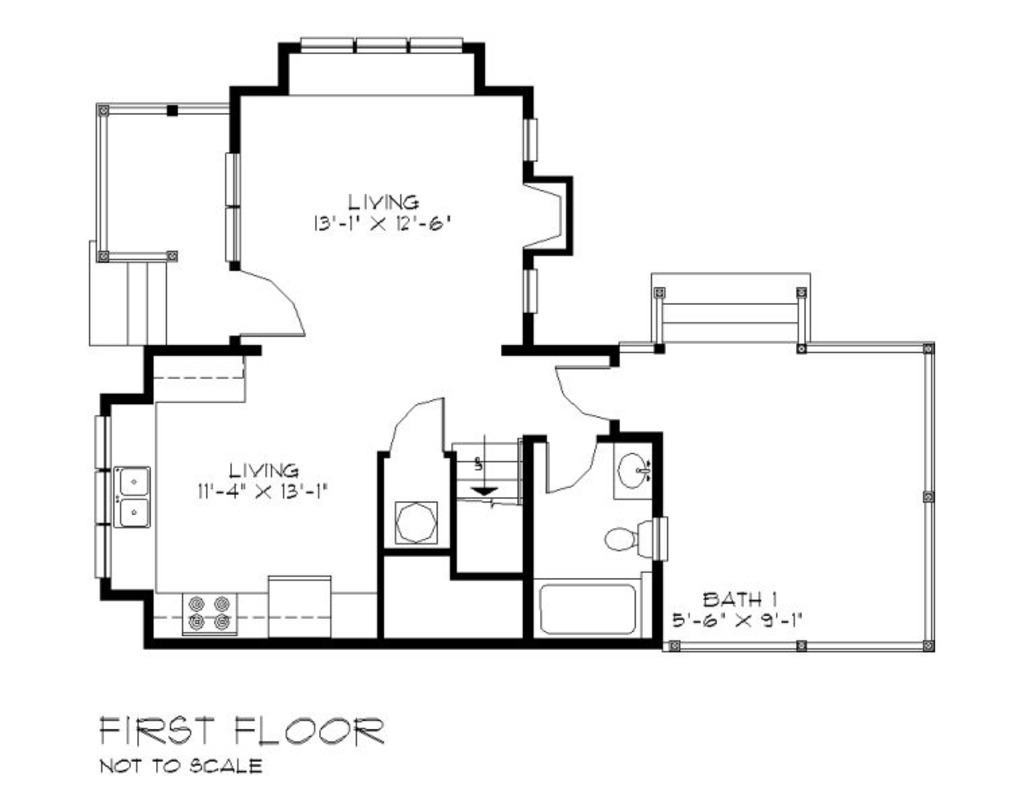door: (230, 261, 313, 345), (381, 394, 452, 462), (552, 359, 623, 426), (536, 433, 604, 498)
large_sink: (599, 514, 675, 569)
small_sink: (602, 437, 654, 501)
stairs: (645, 265, 824, 356), (91, 239, 186, 358), (452, 433, 524, 569)
tub: (534, 578, 651, 642)
twin_sink: (107, 462, 156, 533)
window: (288, 27, 468, 61), (215, 149, 245, 211), (220, 208, 246, 256), (92, 527, 117, 576), (517, 114, 541, 164), (520, 263, 540, 321), (92, 411, 112, 469), (97, 473, 113, 525)
